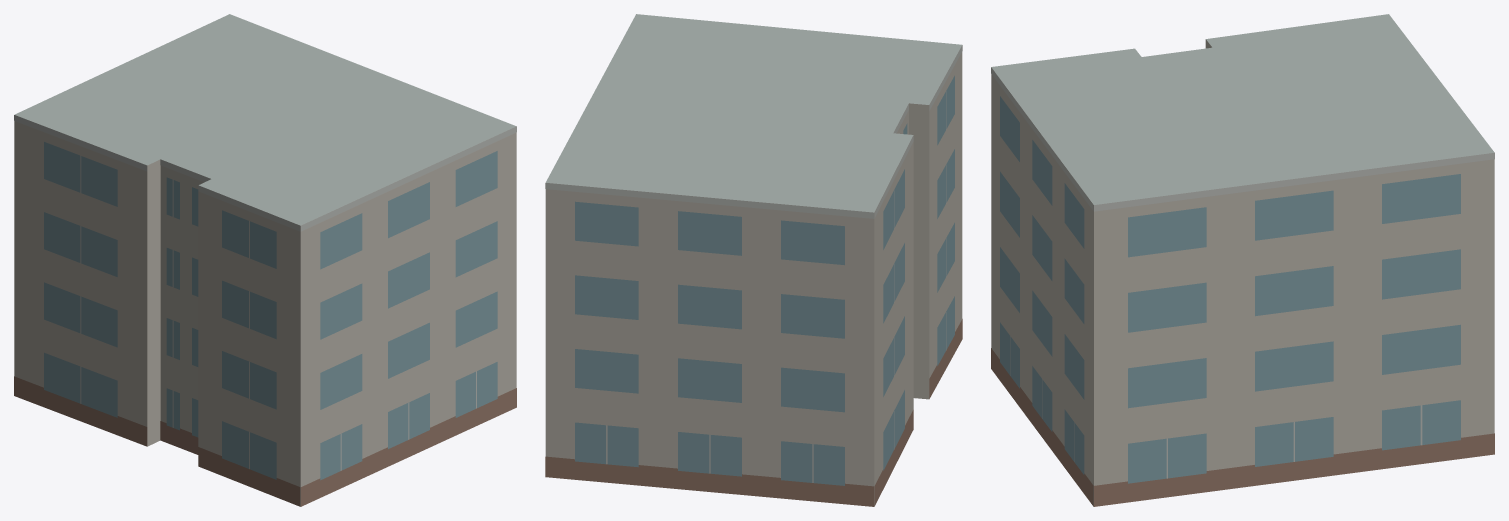
The model's file is survey-upis-32611782.glb.
3 renders of one model, left to right at view 1: azimuth 30°, elevation 25°; view 2: azimuth 150°, elevation 25°; view 3: azimuth 270°, elevation 25°, orthographic. The views are drawn at different scales.
Parts seen in each view (by area): view 1: survey-upis-32611782.tmp; view 2: survey-upis-32611782.tmp; view 3: survey-upis-32611782.tmp.
Part boxes in pixels (left/top/right/bottom): survey-upis-32611782.tmp: left=14, top=14, right=516, bottom=506; survey-upis-32611782.tmp: left=545, top=14, right=962, bottom=506; survey-upis-32611782.tmp: left=991, top=14, right=1494, bottom=506.
Size of the model in its own units: 15.36 by 11.3 by 17.11.
